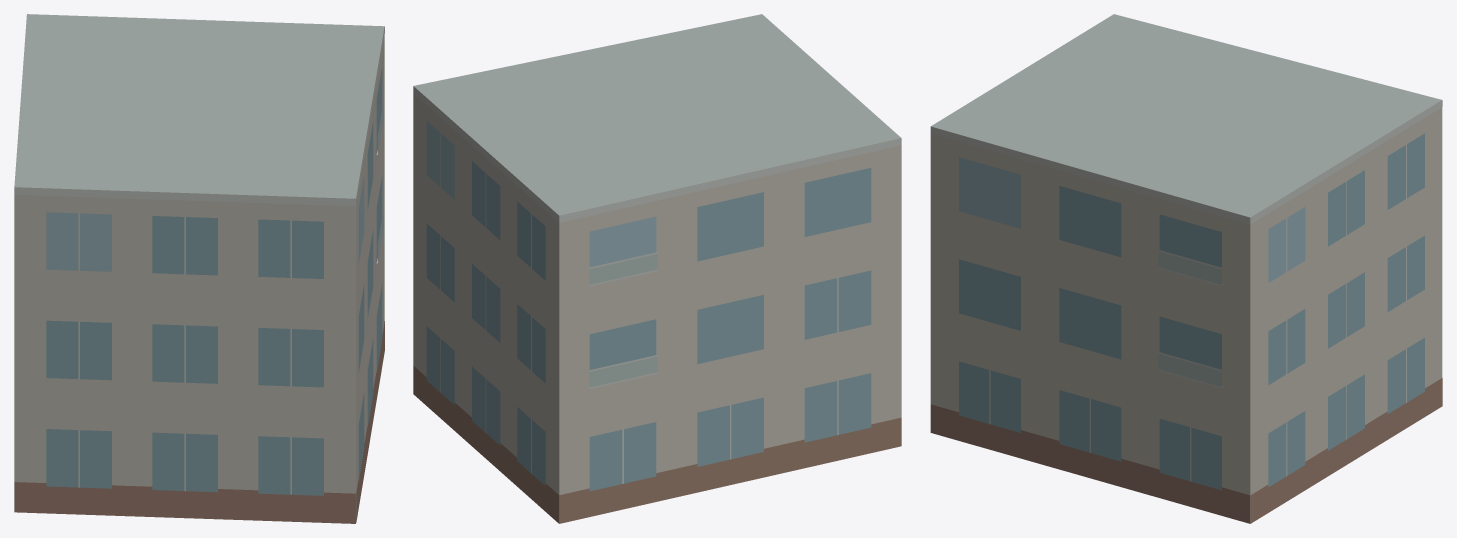
Rendered from survey-upis-32731724.glb.
3 renders of one model, left to right at view 1: azimuth 30°, elevation 25°; view 2: azimuth 150°, elevation 25°; view 3: azimuth 270°, elevation 25°, orthographic. The views are drawn at different scales.
Visible parts, largest first — view 1: survey-upis-32731724.tmp; view 2: survey-upis-32731724.tmp; view 3: survey-upis-32731724.tmp.
Boxes of the visible parts, left/top/right/bottom form: survey-upis-32731724.tmp: left=14, top=14, right=384, bottom=523; survey-upis-32731724.tmp: left=413, top=14, right=901, bottom=523; survey-upis-32731724.tmp: left=930, top=14, right=1442, bottom=523.
Size of the model in its own units: 15.04 by 10.55 by 15.98.
